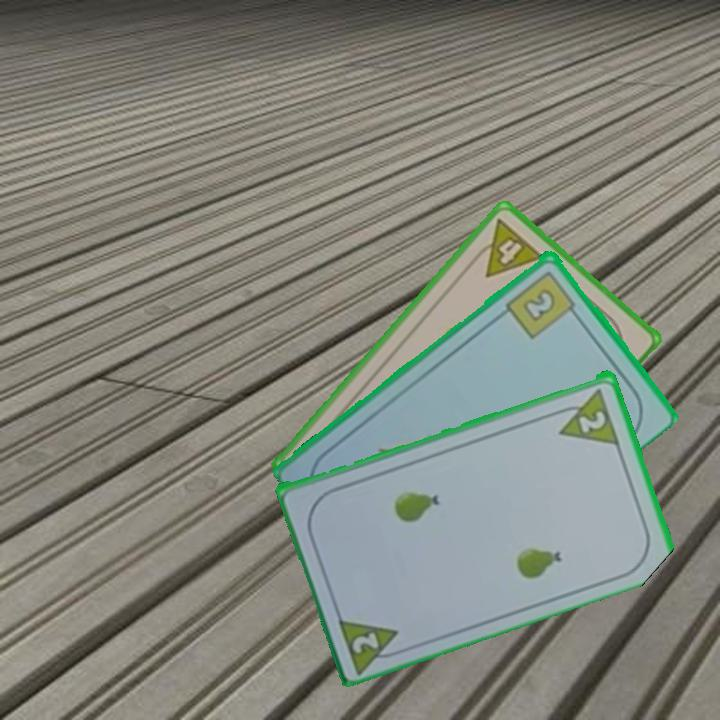2b: (502, 266, 581, 341)
2p: (575, 406, 609, 435), (348, 627, 382, 656)
4p: (466, 214, 547, 281)
